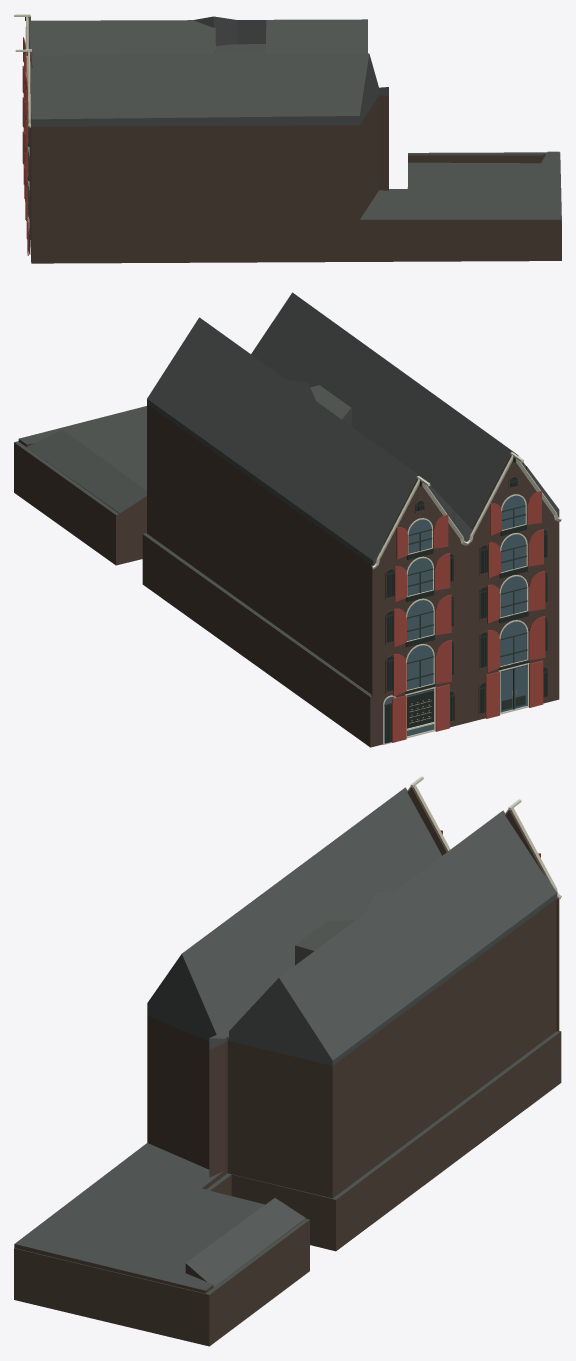
The picture shows the model from 3 angles, top to bottom: view 1: azimuth 30°, elevation 25°; view 2: azimuth 150°, elevation 25°; view 3: azimuth 270°, elevation 25°; orthographic projection. The views are drawn at different scales.
Parts seen in each view (by area): view 1: 0363100012169456; view 2: 0363100012169456; view 3: 0363100012169456.
Part boxes in pixels (x1,y1,x2,y2): 0363100012169456: (14,14,561,263); 0363100012169456: (14,292,561,747); 0363100012169456: (14,776,561,1346).
Bounding box in the file's own units: 44.05 × 17.63 × 32.77.
